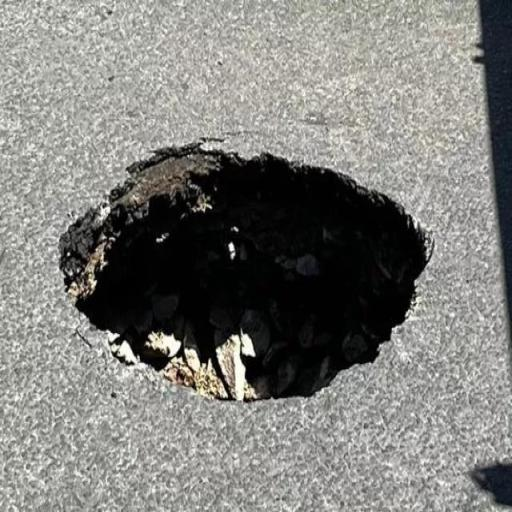Concentric_Crack: (60, 144, 433, 400)
